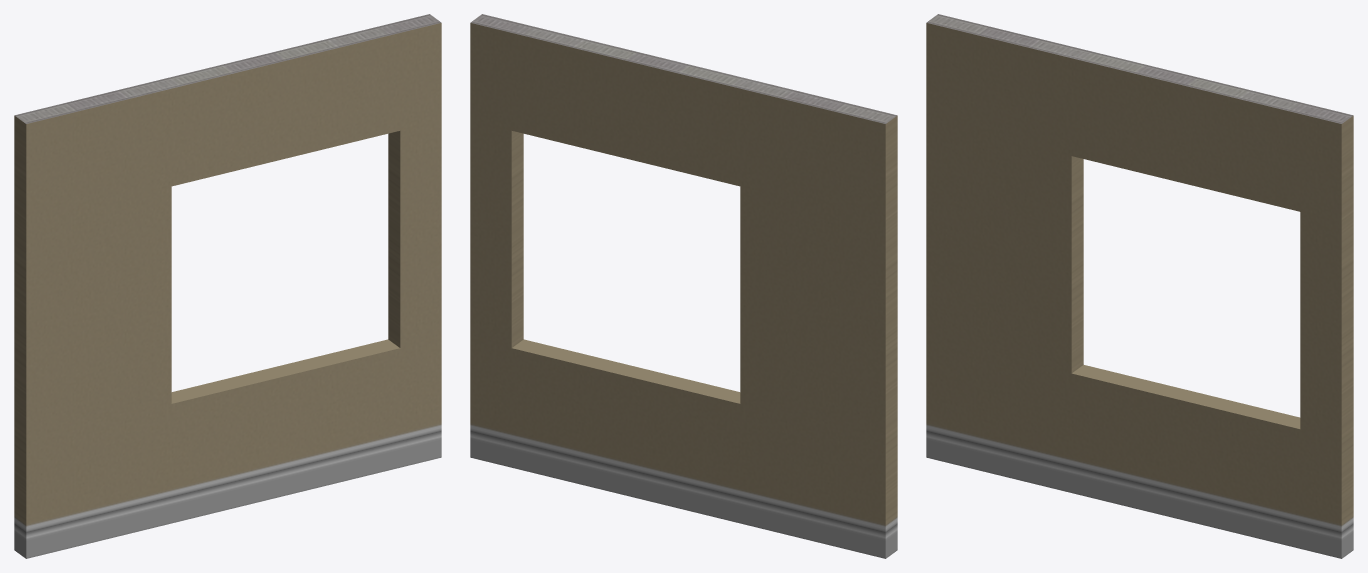
Rendered from wall1_5.fbx.
The picture shows the model from 3 angles, left to right: view 1: azimuth 30°, elevation 25°; view 2: azimuth 150°, elevation 25°; view 3: azimuth 330°, elevation 25°; orthographic projection.
Parts seen in each view (by area): view 1: wall1_yellow_e; view 2: wall1_yellow_e; view 3: wall1_yellow_e.
Part boxes in pixels (box(x1,y1,x2,y2)): wall1_yellow_e: box(14, 14, 441, 558); wall1_yellow_e: box(470, 14, 897, 558); wall1_yellow_e: box(926, 14, 1353, 558).
Bounding box in the file's own units: 400 × 400 × 20.
